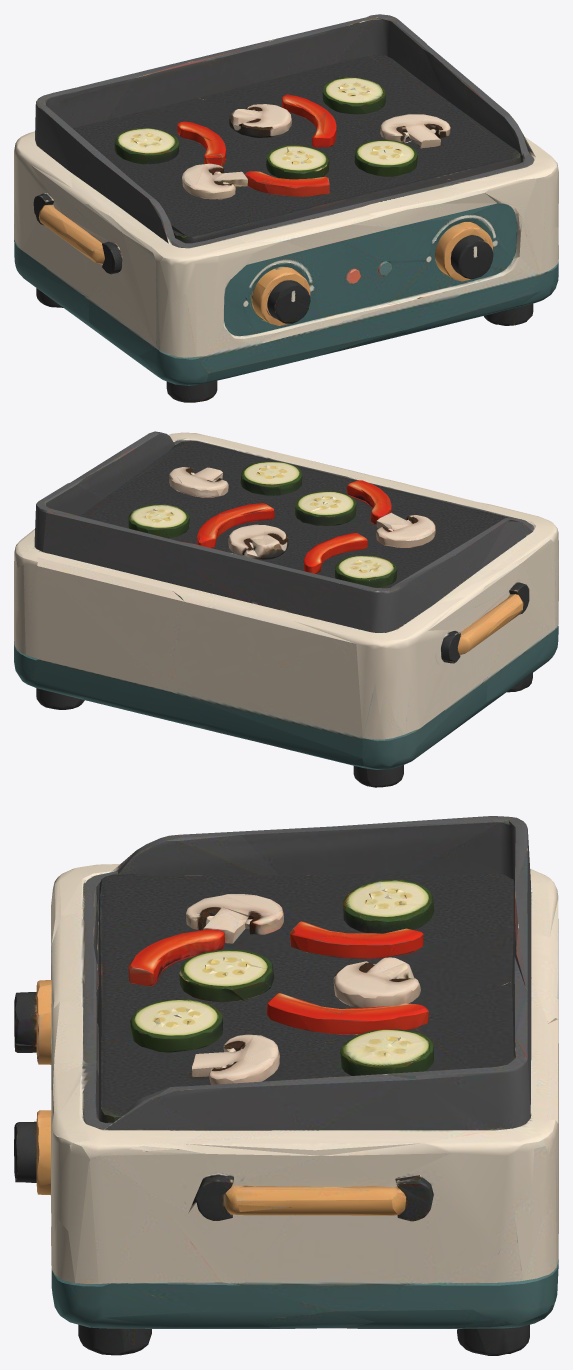
The model's file is rounded-restaurant-flat-griddle-ingredients-loaded.glb.
3 renders of one model, top to bottom at view 1: azimuth 30°, elevation 25°; view 2: azimuth 150°, elevation 25°; view 3: azimuth 270°, elevation 25°, orthographic. The views are drawn at different scales.
Visible parts, largest first — view 1: Mesh_0; view 2: Mesh_0; view 3: Mesh_0.
Boxes of the visible parts, x1,y1,x2,y2 form: Mesh_0: (14,14,558,402); Mesh_0: (14,431,558,787); Mesh_0: (14,816,558,1355).
Size of the model in its own units: 0.6841 by 0.3 by 0.5123.
Materials: 1 (1 with a texture image).
